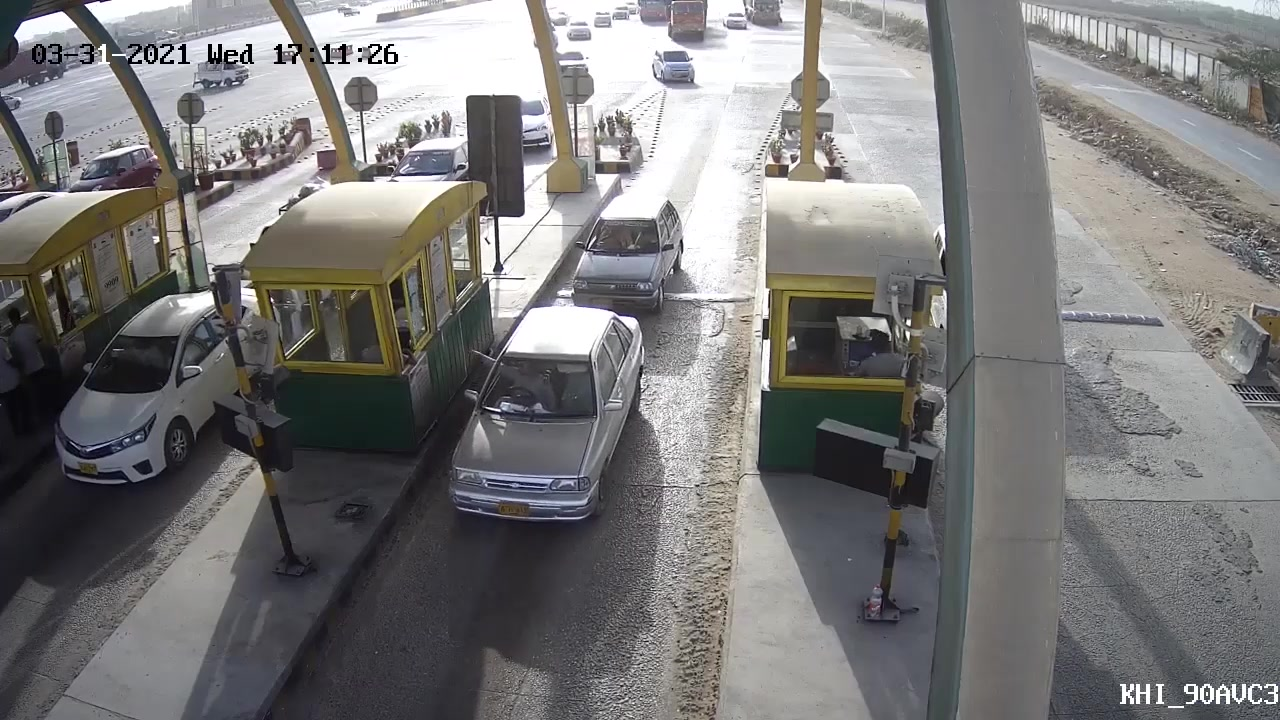F1: (446, 307, 647, 534), (554, 192, 689, 316)
